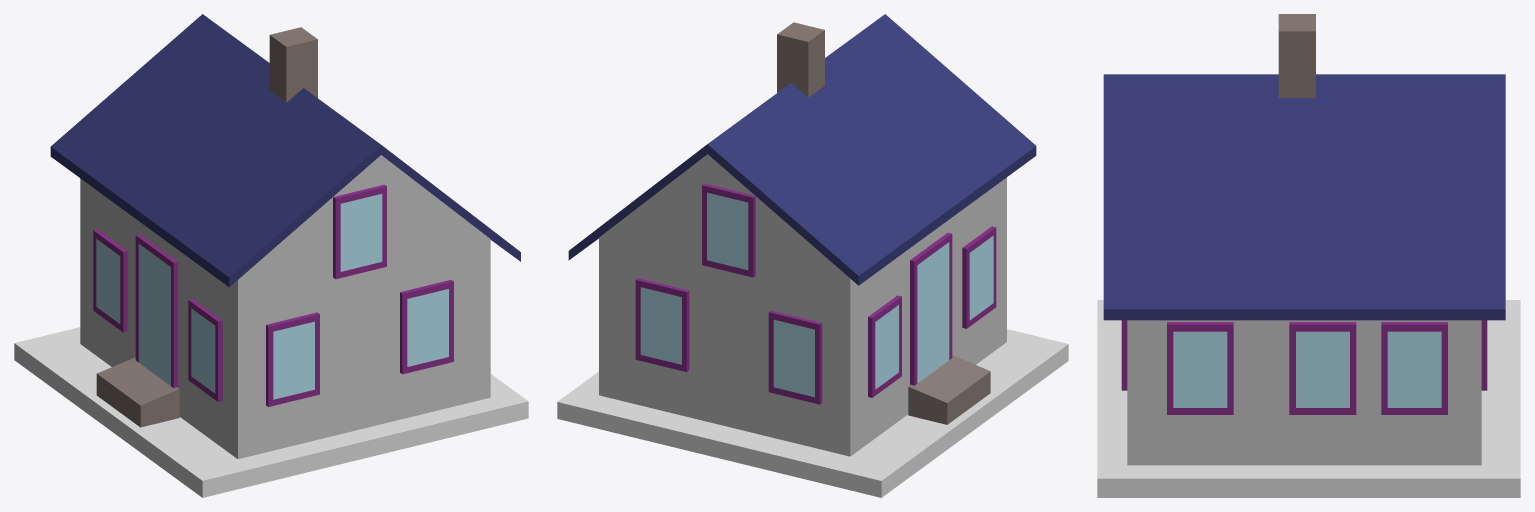
Rendered from Small_House_3.FBX.
The picture shows the model from 3 angles, left to right: view 1: azimuth 30°, elevation 25°; view 2: azimuth 150°, elevation 25°; view 3: azimuth 270°, elevation 25°; orthographic projection. The views are drawn at different scales.
Parts seen in each view (by area): view 1: Box004, Box045; view 2: Box004, Box045; view 3: Box004, Box045.
Part boxes in pixels (x1,y1,x2,y2): Box004: (50,14,520,459); Box045: (14,327,528,497); Box004: (568,14,1036,456); Box045: (557,329,1068,497); Box004: (1103,14,1505,465); Box045: (1097,300,1520,497).
Size of the model in its own units: 1 by 1.03 by 1.
